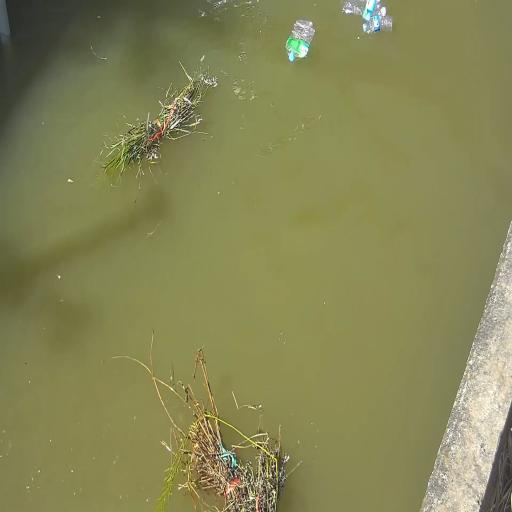plastic: (286, 20, 314, 61), (342, 0, 381, 21), (363, 15, 392, 33)
twig: (112, 331, 289, 512), (103, 66, 217, 174)
